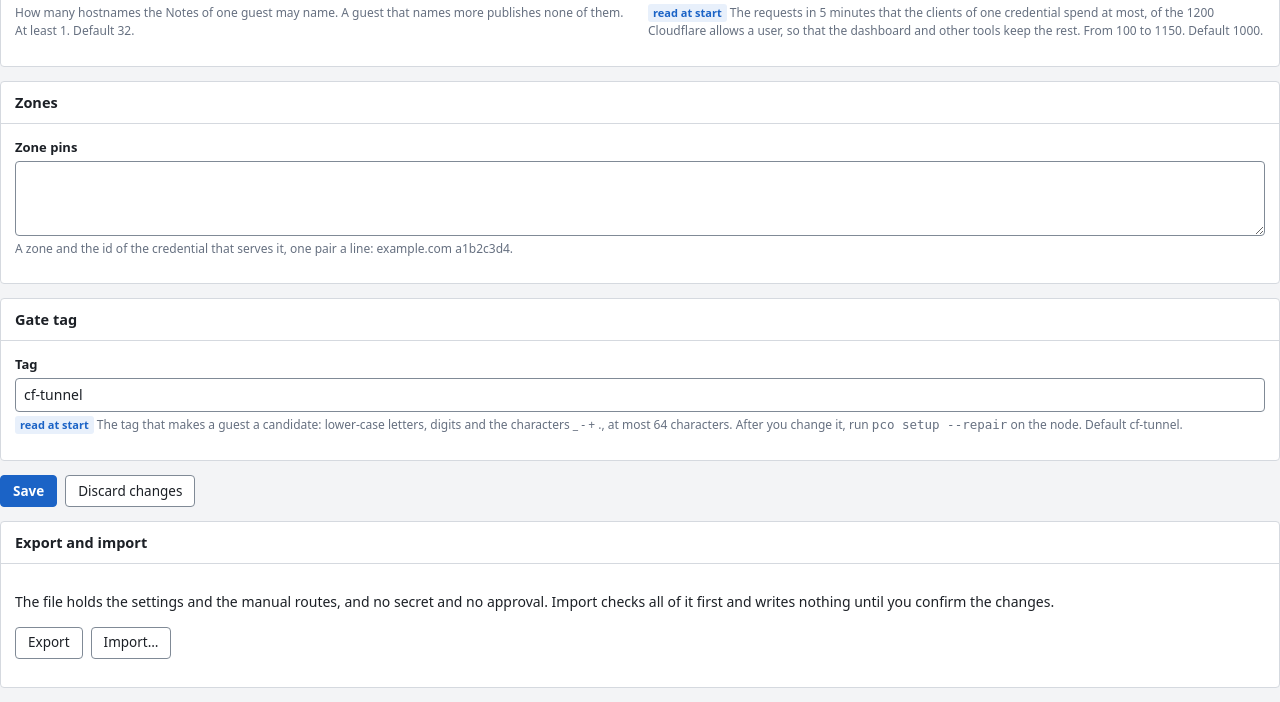
Test: a link from a route that waits for allowHosts › the diff names the owner and what the opt-in grants, and Save writes it
This screenshot has width=1280, height=702.
(page scrolled)
Click the button "Save": {"x": 29, "y": 491} top-left (0, 475), bottom-right (57, 507)
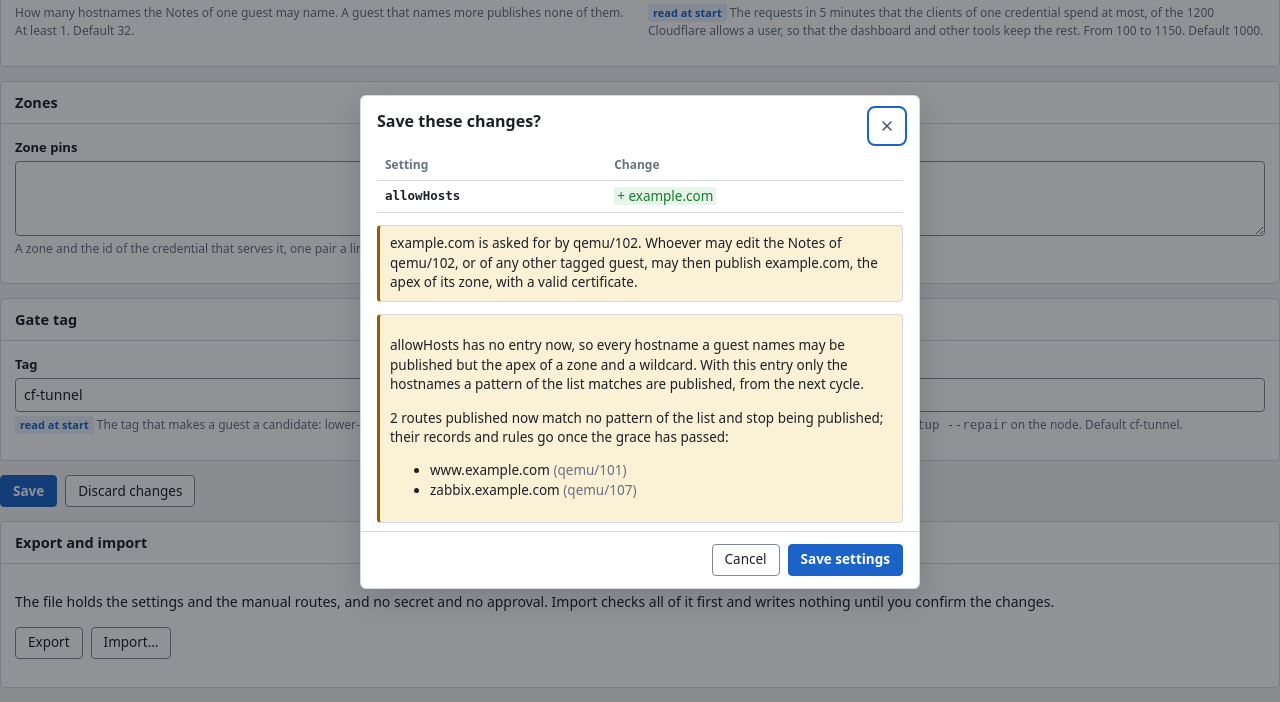
Check: the table named "Changes to the settings" shows "example.com", box top-left (628, 187), bottom-right (713, 205)
Check: the text "example.com is asked for by qemu/102." shows "Whoever may edit the Notes of qemu/102, or of any other tagged guest, may then publish example.com, the apex of its zone, with a valid certificate.", box top-left (390, 234), bottom-right (878, 291)
Click the button "Save settings": {"x": 845, "y": 560} top-left (788, 544), bottom-right (903, 576)
(page scrolled)
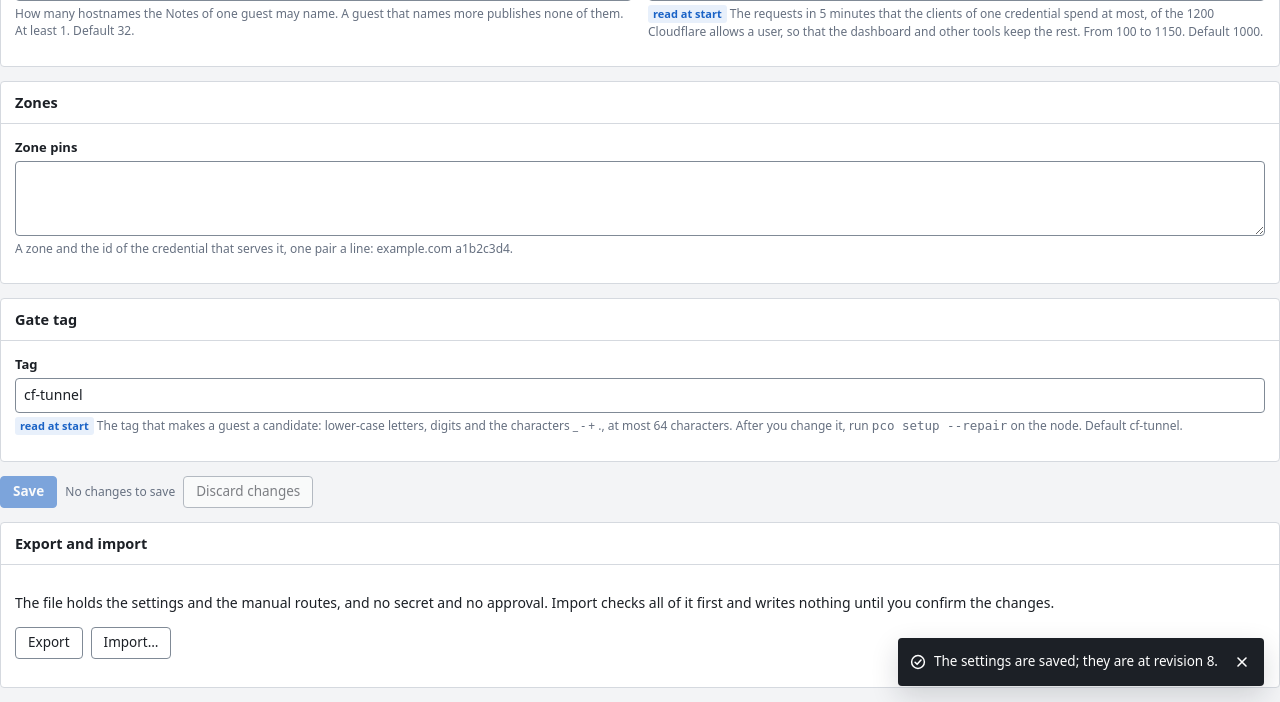
Check: the text "The settings are saved; they are at revision 8." is shown, box top-left (934, 652), bottom-right (1218, 670)
